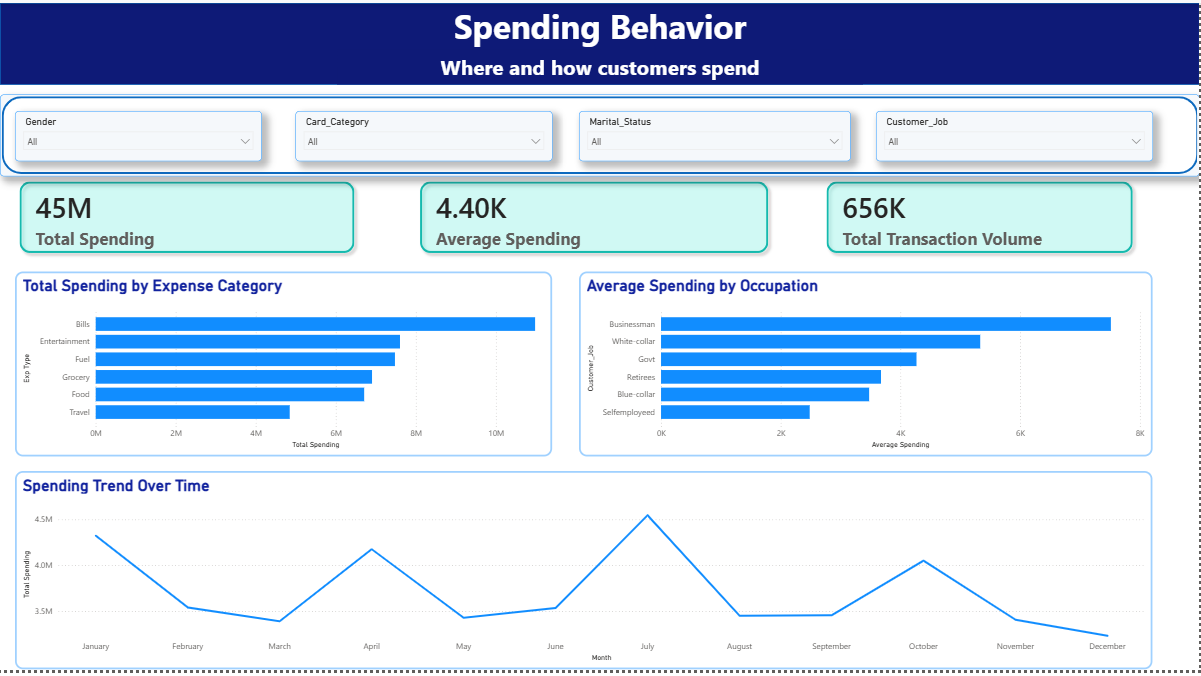

The page's visual inventory and layout, read from the dashboard file:
{"tool":"powerbi","page":{"name":"Spending Behaviour","canvas":[1800,1000],"ordinal":1},"visuals":[{"type":"cardVisual","fields":{"Data":["credit_card.Total Spending"]},"box":[0,237.5,560,165],"z":0},{"type":"cardVisual","fields":{"Data":["credit_card.Average Spending"]},"box":[600,237.5,580,165],"z":1000},{"type":"cardVisual","fields":{"Data":["credit_card.Total Transaction Volume"]},"box":[1210,237.5,517.5,165],"z":2000},{"type":"barChart","title":"Total Spending by Expense Category","fields":{"Category":["credit_card.Exp Type"],"Y":["credit_card.Total Spending"]},"box":[22.5,402.5,805,277.5],"z":3000},{"type":"barChart","title":"Average Spending by Occupation","fields":{"Category":["customer.Customer_Job"],"Y":["credit_card.Average Spending"]},"box":[867.5,402.5,860,277.5],"z":4000},{"type":"lineChart","title":"Spending Trend Over Time","fields":{"Category":["credit_card.Week_Start_Date.Variation.Date Hierarchy.Month"],"Y":["credit_card.Total Spending"]},"box":[22.5,702.5,1705,297.5],"z":5000},{"type":"shape","box":[0,0,1800,122.5],"z":6000},{"type":"shape","box":[505,70,787.5,52.5],"z":7000},{"type":"shape","box":[0,137.5,1800,122.5],"z":8000},{"type":"slicer","title":"Gender","fields":{"Values":["customer.Gender"]},"box":[22.5,162.5,370,75],"z":9000},{"type":"slicer","fields":{"Values":["credit_card.Card_Category"]},"box":[442.5,162.5,385,75],"z":10000},{"type":"slicer","fields":{"Values":["customer.Marital_Status"]},"box":[867.5,162.5,407.5,75],"z":11000},{"type":"slicer","fields":{"Values":["customer.Customer_Job"]},"box":[1312.5,162.5,415,75],"z":12000}]}

Visuals, with their boxes in screenshot pixels (x1, y1, x2, y2), scaled from the page's 1800x1000 canvas onto the 1201x676 screenshot:
cardVisual - credit_card.Total Spending: (left=0, top=161, right=374, bottom=272)
cardVisual - credit_card.Average Spending: (left=400, top=161, right=787, bottom=272)
cardVisual - credit_card.Total Transaction Volume: (left=807, top=161, right=1153, bottom=272)
"Total Spending by Expense Category" barChart: (left=15, top=272, right=552, bottom=460)
"Average Spending by Occupation" barChart: (left=579, top=272, right=1153, bottom=460)
"Spending Trend Over Time" lineChart: (left=15, top=475, right=1153, bottom=675)
shape: (left=0, top=0, right=1200, bottom=83)
shape: (left=337, top=47, right=862, bottom=83)
shape: (left=0, top=93, right=1200, bottom=176)
"Gender" slicer: (left=15, top=110, right=262, bottom=161)
slicer - credit_card.Card_Category: (left=295, top=110, right=552, bottom=161)
slicer - customer.Marital_Status: (left=579, top=110, right=851, bottom=161)
slicer - customer.Customer_Job: (left=876, top=110, right=1153, bottom=161)
